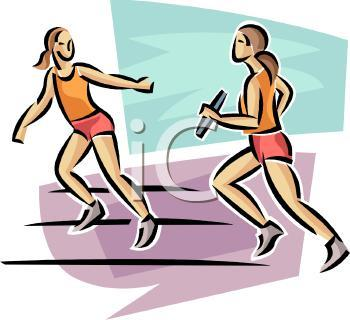person: (188, 23, 346, 268), (3, 25, 168, 254)
